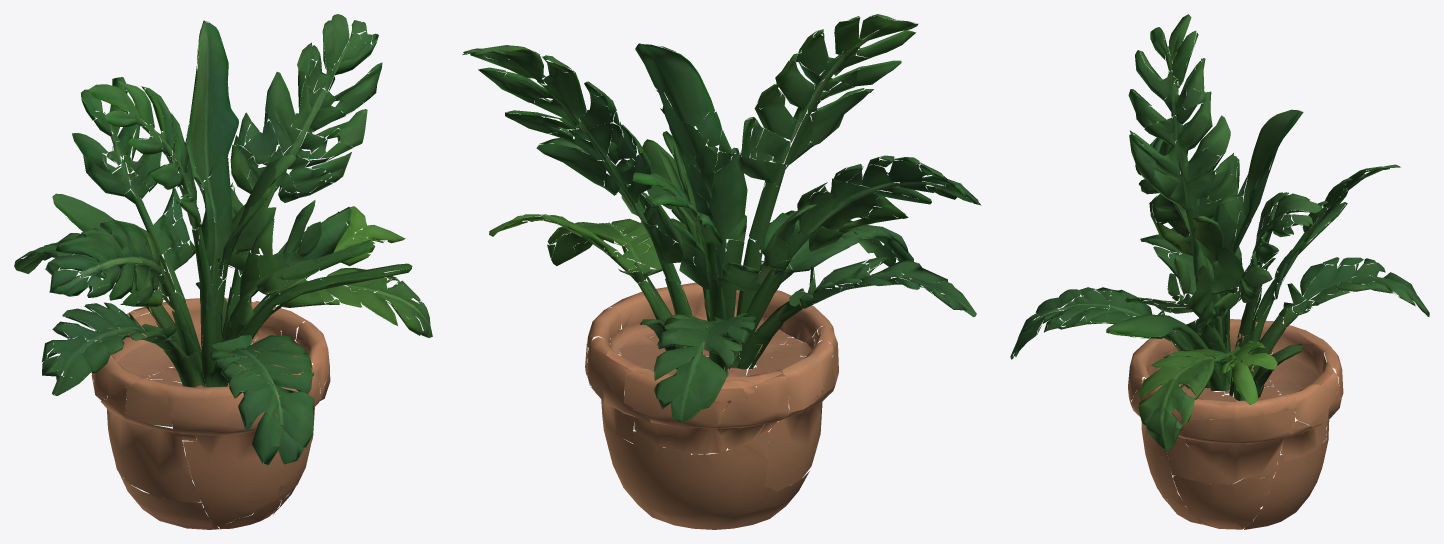
Rendered from pianta_in_vaso.glb.
3 views of the same model, side by side, from view 1: azimuth 30°, elevation 25°; view 2: azimuth 150°, elevation 25°; view 3: azimuth 270°, elevation 25° (orthographic). The views are drawn at different scales.
Parts seen in each view (by area): view 1: tripo_node_f17fdf3c-2c7c-46c3-a475-1cc8075a4c31; view 2: tripo_node_f17fdf3c-2c7c-46c3-a475-1cc8075a4c31; view 3: tripo_node_f17fdf3c-2c7c-46c3-a475-1cc8075a4c31.
Boxes of the visible parts, x1,y1,x2,y2 form: tripo_node_f17fdf3c-2c7c-46c3-a475-1cc8075a4c31: (14,14,432,529); tripo_node_f17fdf3c-2c7c-46c3-a475-1cc8075a4c31: (462,14,981,529); tripo_node_f17fdf3c-2c7c-46c3-a475-1cc8075a4c31: (1010,14,1429,529).
Size of the model in its own units: 0.8985 by 0.9813 by 0.8775.
Materials: 1 (1 with a texture image).
